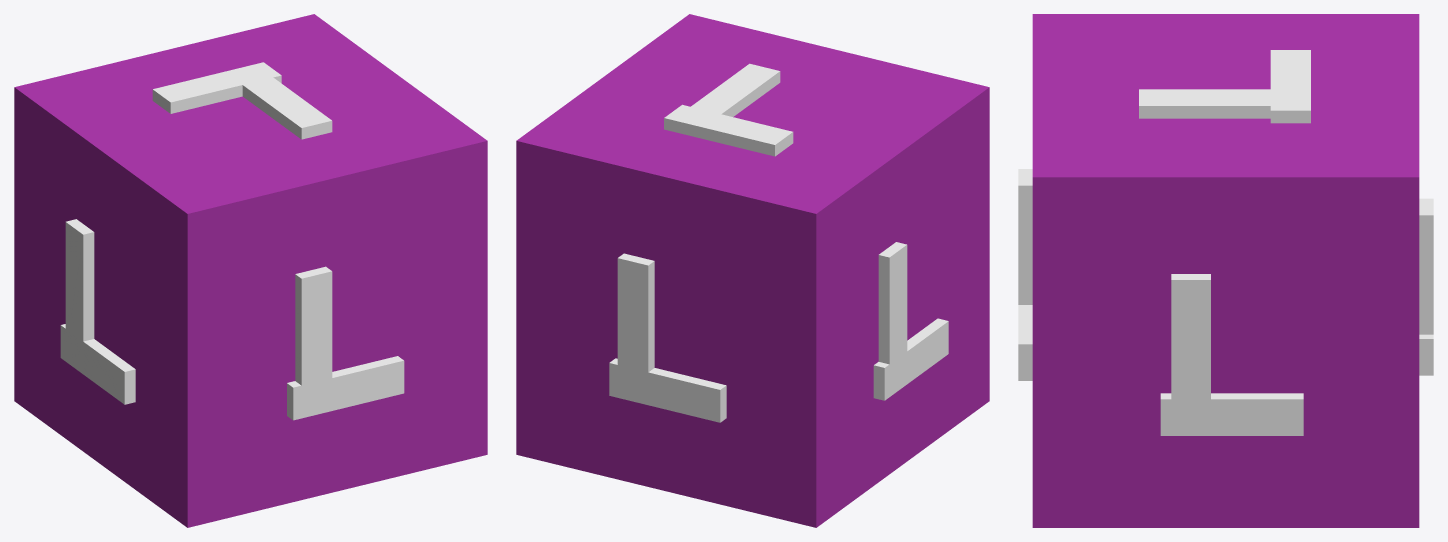
The model's file is DISTRACTOR_11.glb.
3 views of the same model, side by side, from view 1: azimuth 30°, elevation 25°; view 2: azimuth 150°, elevation 25°; view 3: azimuth 270°, elevation 25° (orthographic). The views are drawn at different scales.
Visible parts, largest first — view 1: DISTRACTOR_HIGH_11; view 2: DISTRACTOR_HIGH_11; view 3: DISTRACTOR_HIGH_11.
Part boxes in pixels (x1,y1,x2,y2): DISTRACTOR_HIGH_11: [14, 14, 487, 527]; DISTRACTOR_HIGH_11: [516, 14, 989, 527]; DISTRACTOR_HIGH_11: [1018, 14, 1433, 527].
Bounding box in the file's own units: 2.15 × 2.15 × 2.15.
